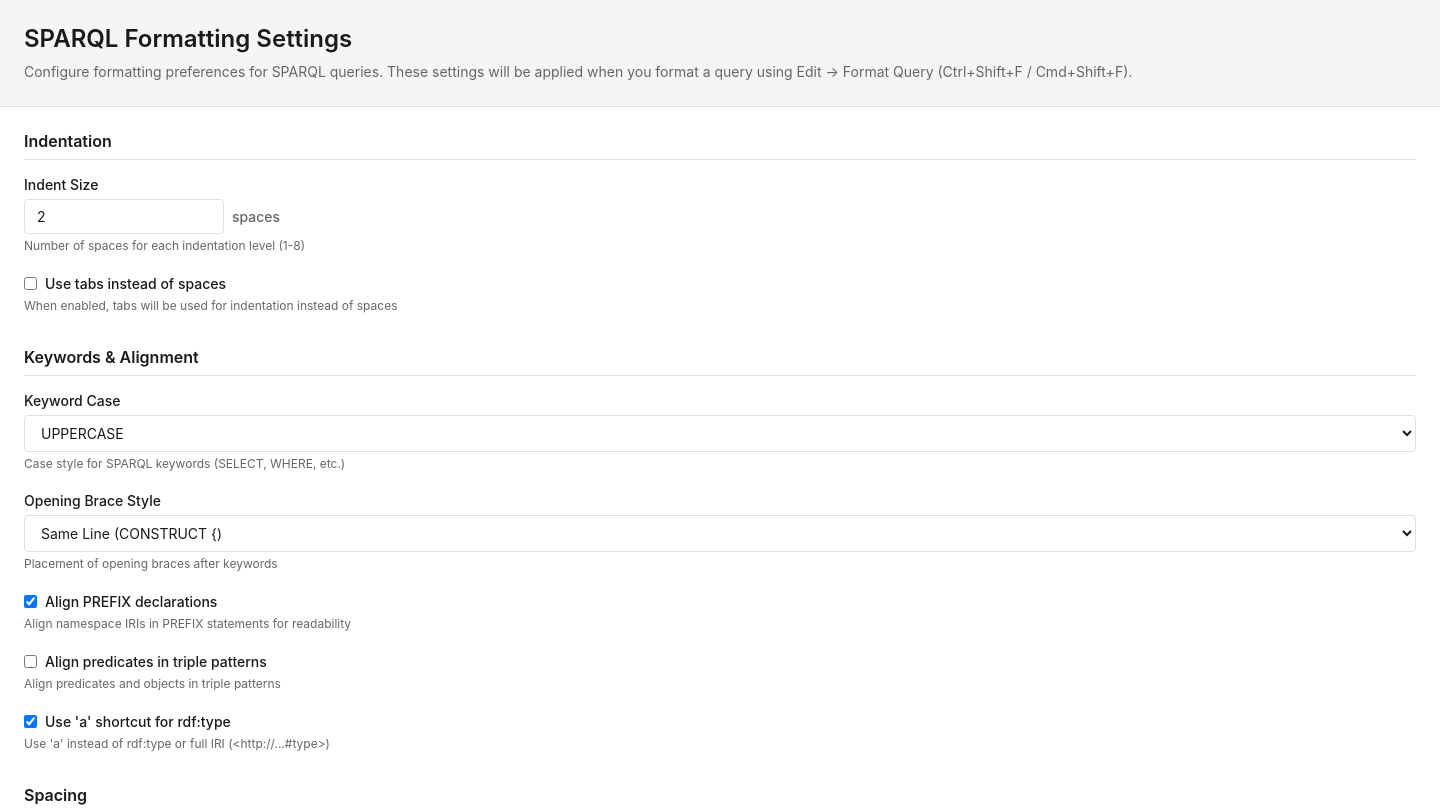
Test case: SparqlFormattingSettingsView › saves all edited fields including nested spacing and line-break options
The width and height of the screenshot is (1440, 810).
Replace the text in the number field with id "indent-size" with "3" at [124, 216], box [24,199,224,234]
Select "New Line (CONSTRUCT\\n{)" in the dropdown with id "brace-style" at [720, 534], box [24,515,1416,552]
(page scrolled)
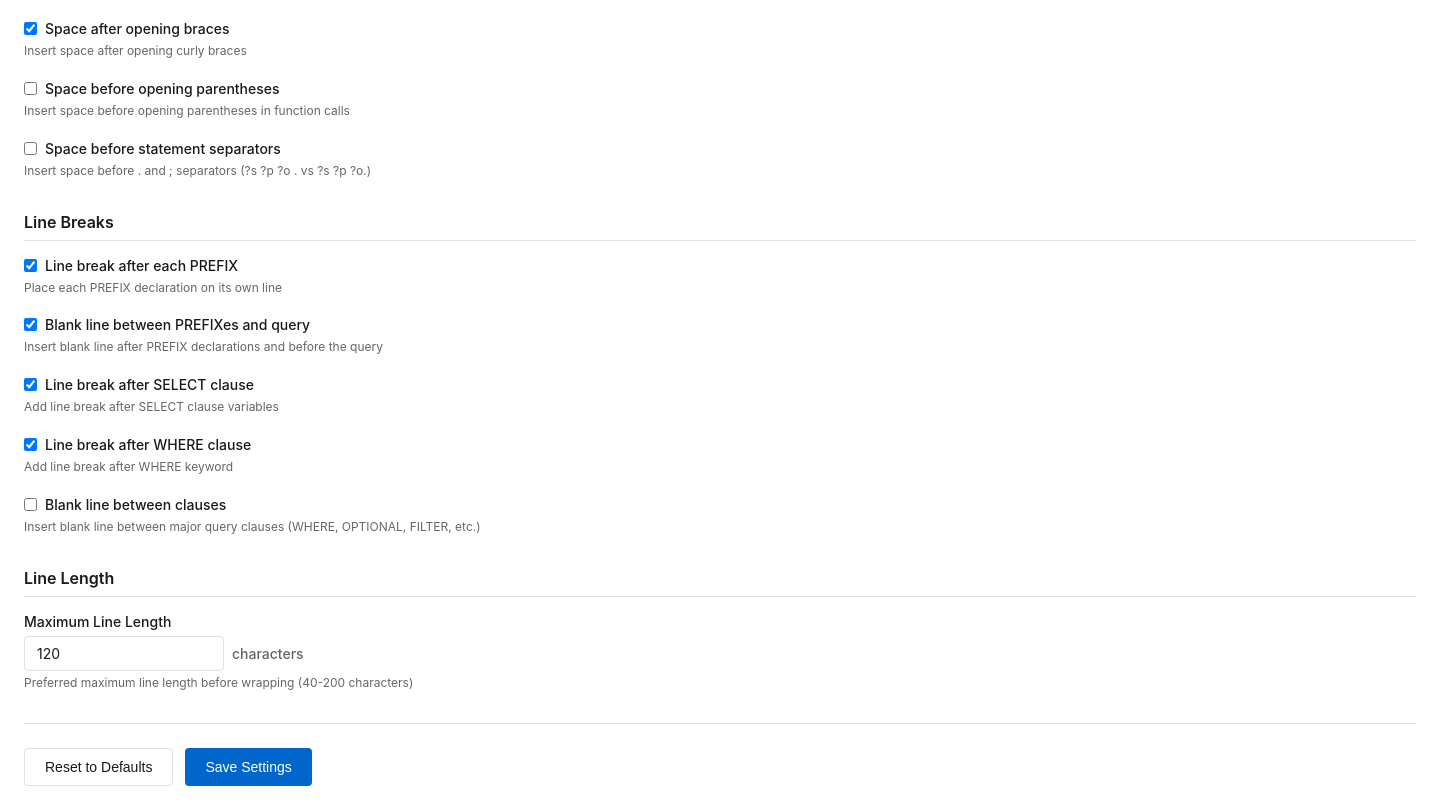
Replace the text in the number field with id "max-line-length" with "80" at [124, 653], box [24,636,224,670]
(page scrolled)
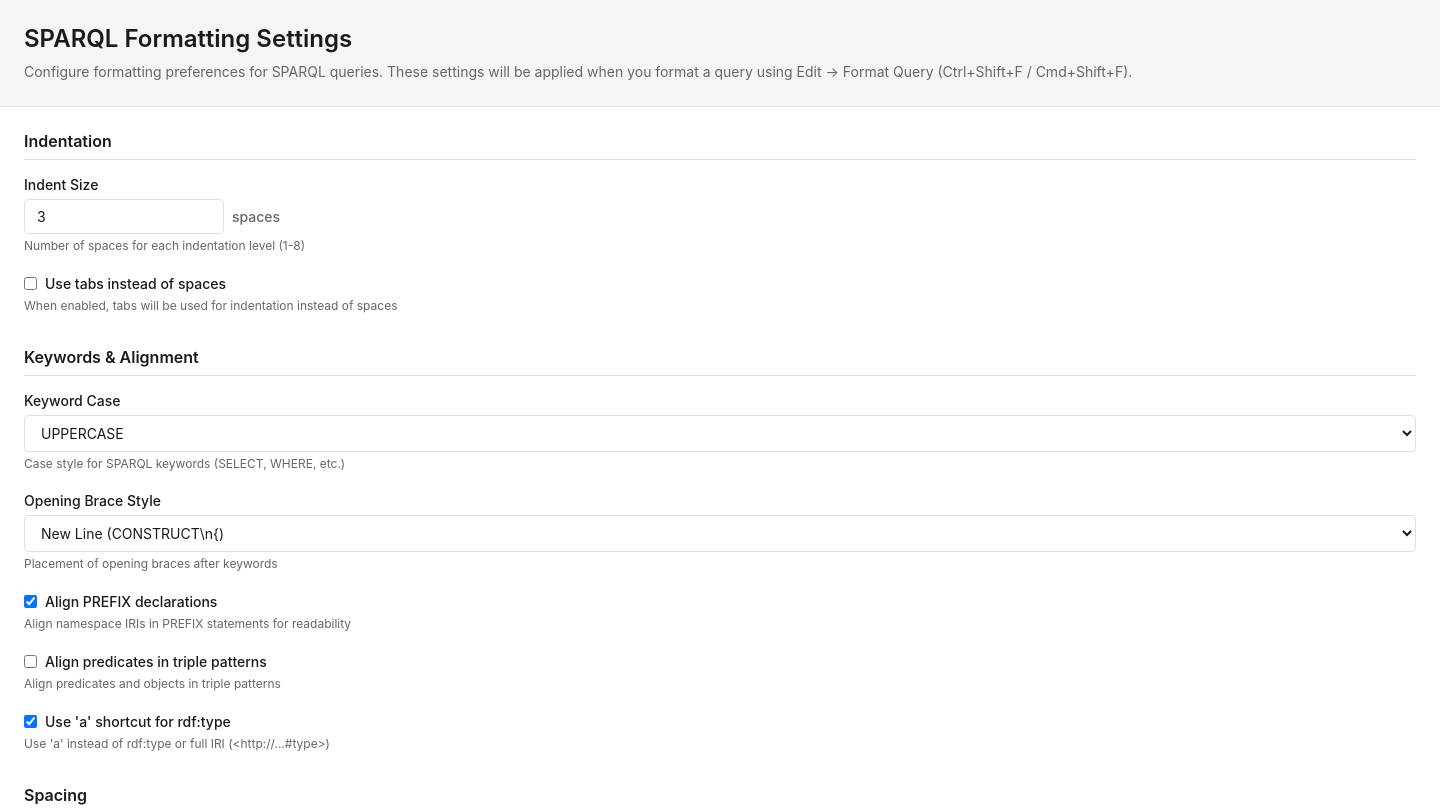
Click the checkbox labelled "Use tabs instead of spaces" at [30, 283], box [24,277,37,290]
(page scrolled)
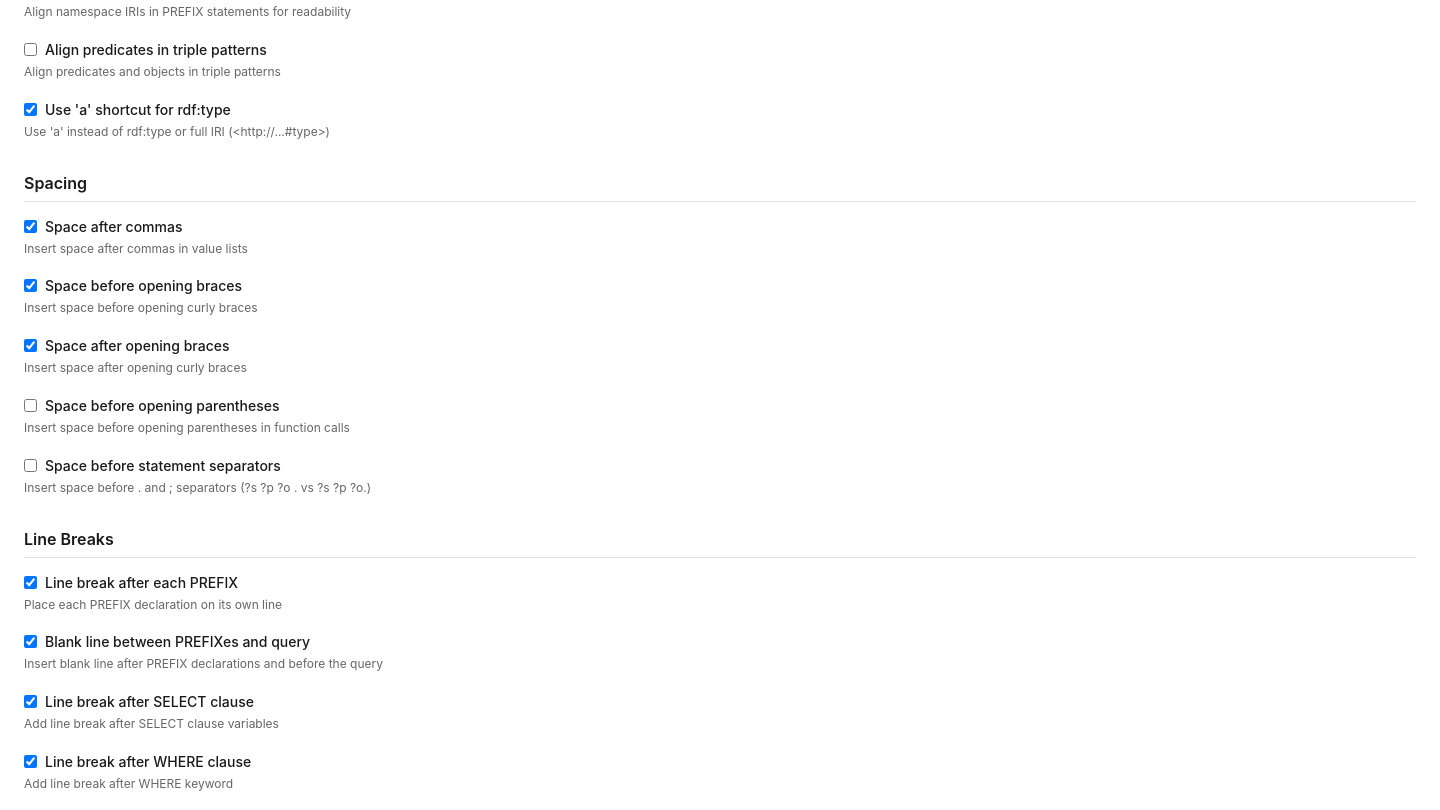
Click the checkbox labelled "Space before opening parentheses" at [30, 406], box [24,399,37,412]
(page scrolled)
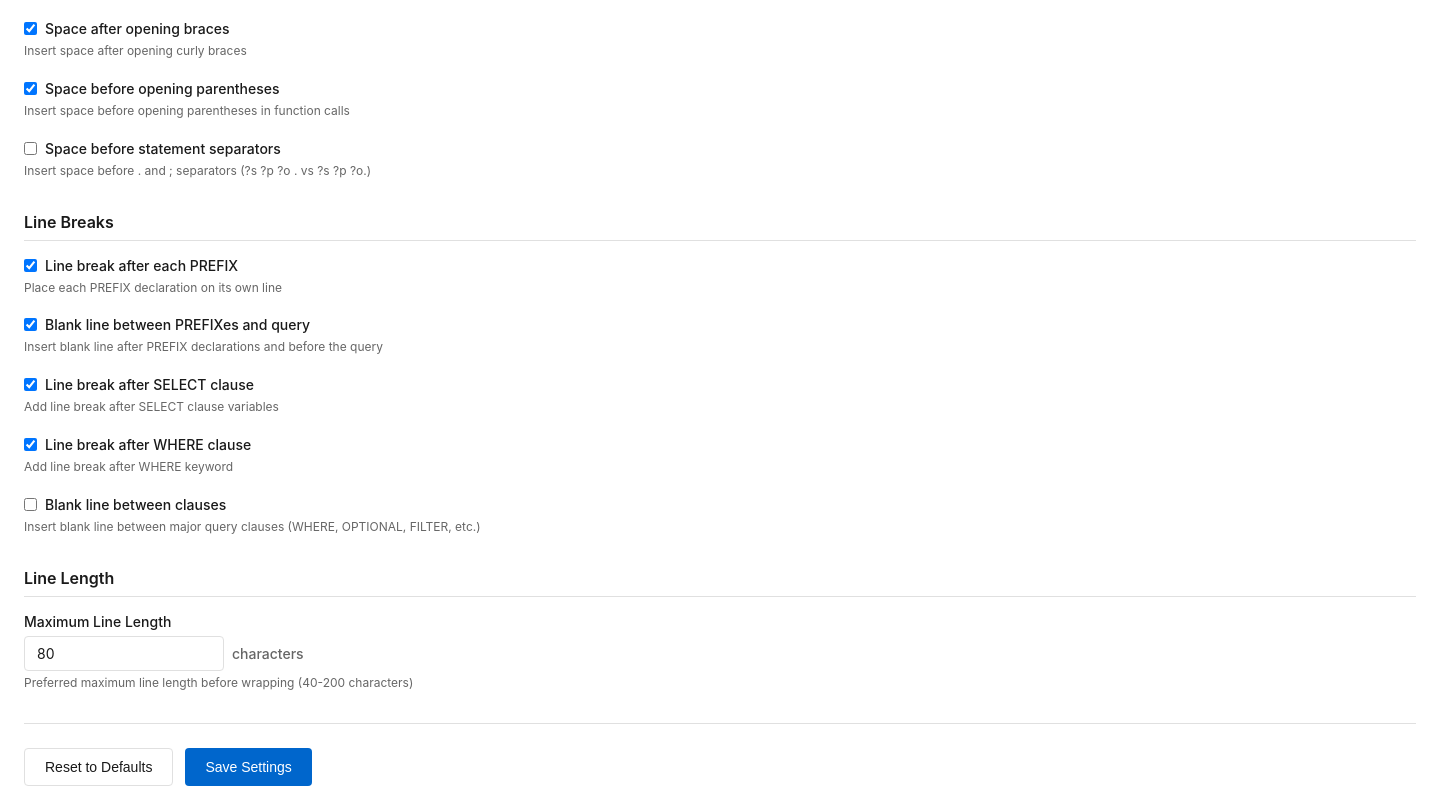
Click the checkbox labelled "Blank line between clauses" at [30, 504], box [24,498,37,511]
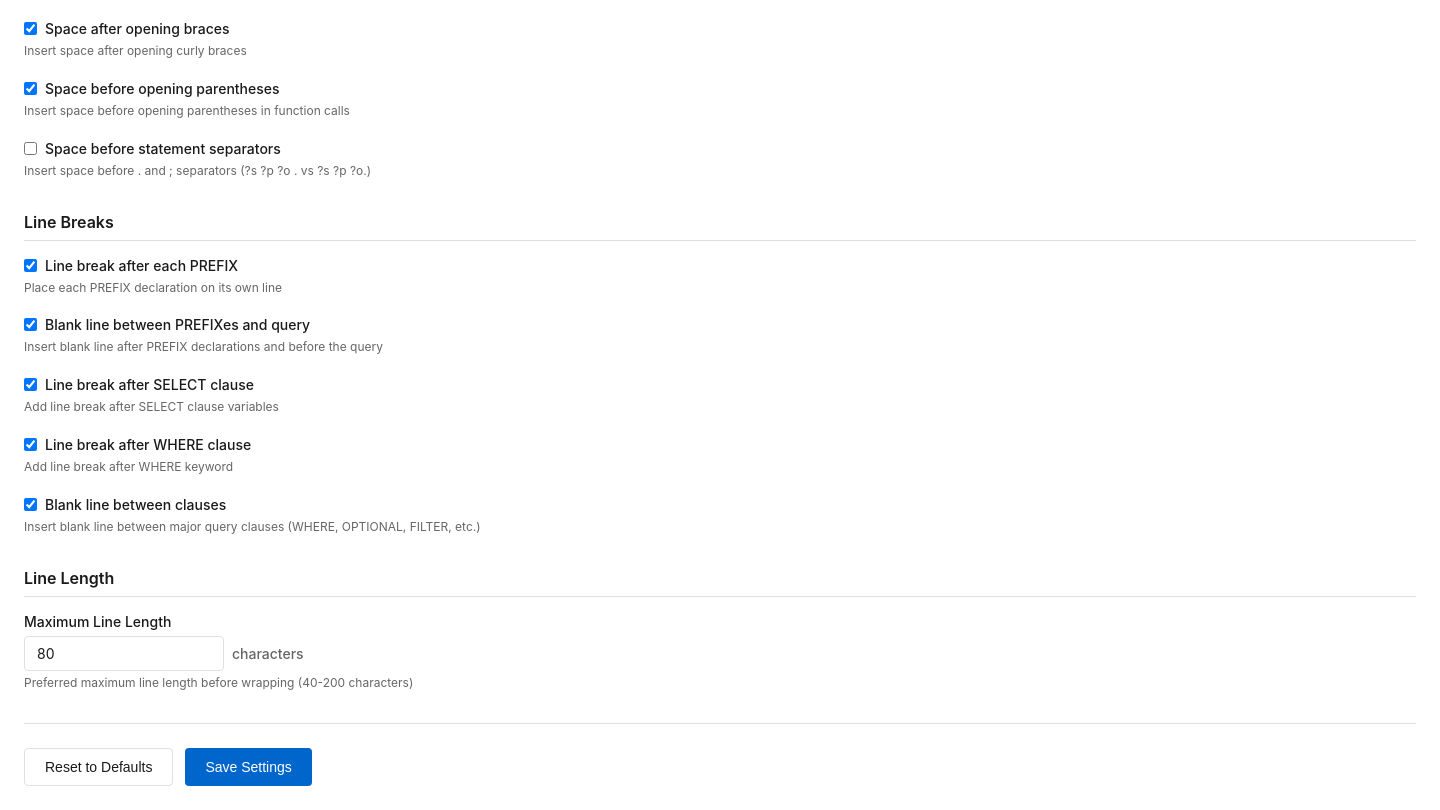
Click the button "Save Settings" at [249, 767], box [185,748,312,786]
(page scrolled)
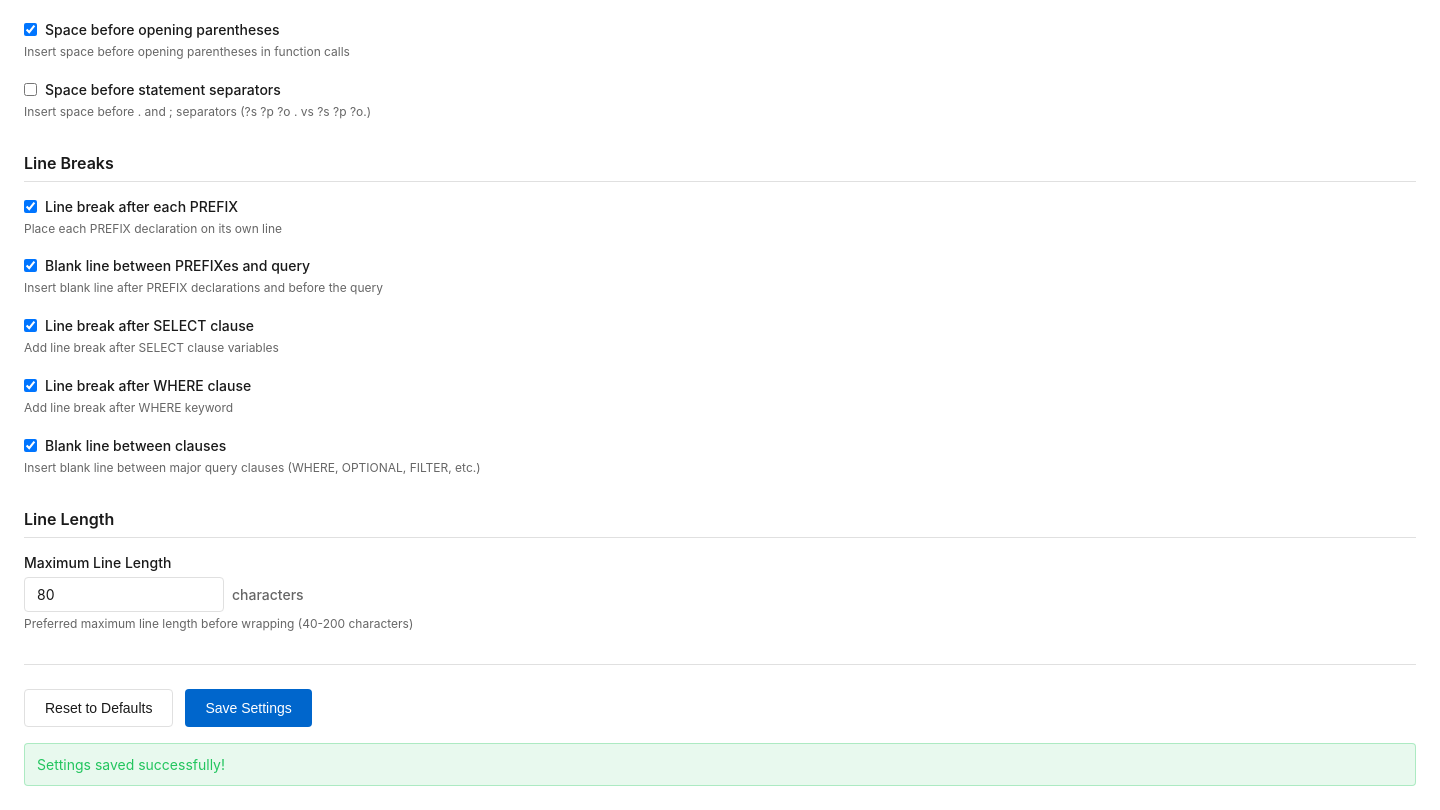
Expected: the text with class "save-message" reads "Settings saved successfully!", [37,756,225,773]
